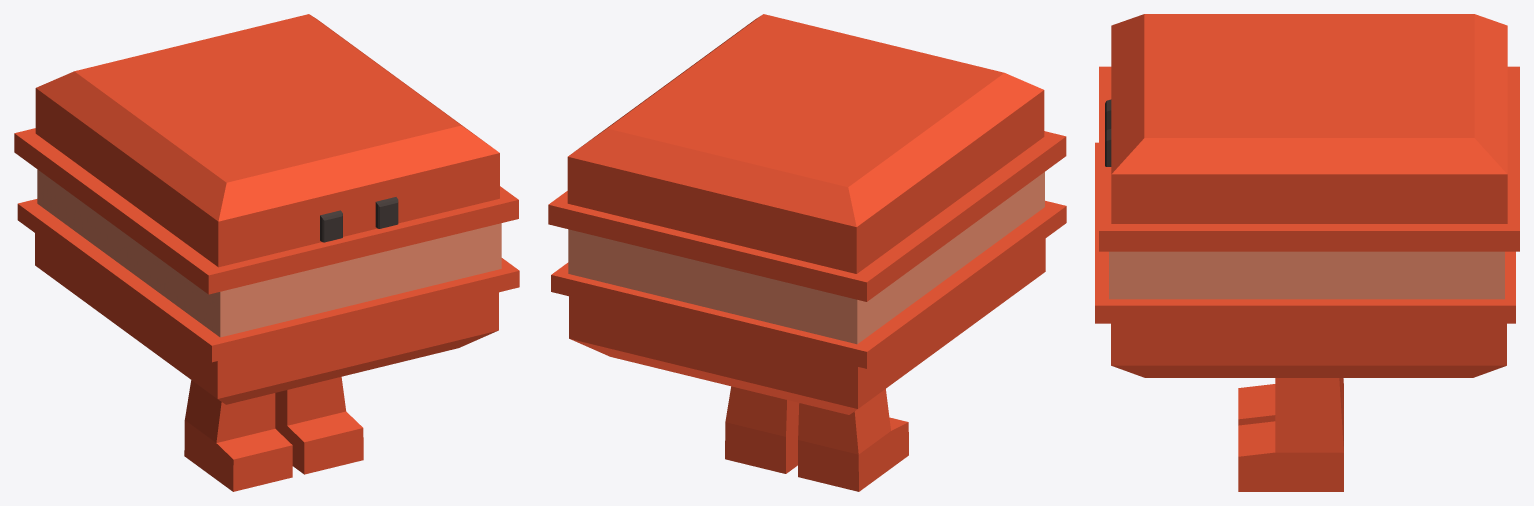
The model's file is st1_block6.fbx.
3 views of the same model, side by side, from view 1: azimuth 30°, elevation 25°; view 2: azimuth 150°, elevation 25°; view 3: azimuth 270°, elevation 25° (orthographic). The views are drawn at different scales.
Parts seen in each view (by area): view 1: st1_block6_head, st1_block6_down, st1_block6_middle, st1_block6_L_leg, st1_block6_R_leg, st2_block1_R_eye, st2_block1_L_eye; view 2: st1_block6_head, st1_block6_down, st1_block6_middle, st1_block6_L_leg, st1_block6_R_leg; view 3: st1_block6_head, st1_block6_down, st1_block6_middle, st1_block6_R_leg, st1_block6_L_leg.
Part boxes in pixels (x1,y1,x2,y2): st1_block6_head: [14, 14, 518, 294]; st1_block6_down: [17, 199, 519, 404]; st1_block6_middle: [37, 169, 501, 337]; st1_block6_L_leg: [184, 380, 292, 491]; st1_block6_R_leg: [275, 377, 363, 474]; st2_block1_R_eye: [375, 197, 398, 228]; st2_block1_L_eye: [320, 210, 342, 242]; st1_block6_head: [548, 14, 1066, 301]; st1_block6_down: [551, 200, 1066, 414]; st1_block6_middle: [568, 172, 1044, 344]; st1_block6_L_leg: [798, 389, 908, 491]; st1_block6_R_leg: [725, 386, 799, 473]; st1_block6_head: [1099, 14, 1519, 251]; st1_block6_down: [1095, 142, 1515, 377]; st1_block6_middle: [1109, 251, 1504, 299]; st1_block6_R_leg: [1238, 378, 1343, 491]; st1_block6_L_leg: [1238, 378, 1343, 425].
Size of the model in its own units: 441 by 479 by 483.
1 material, 1 textured.
